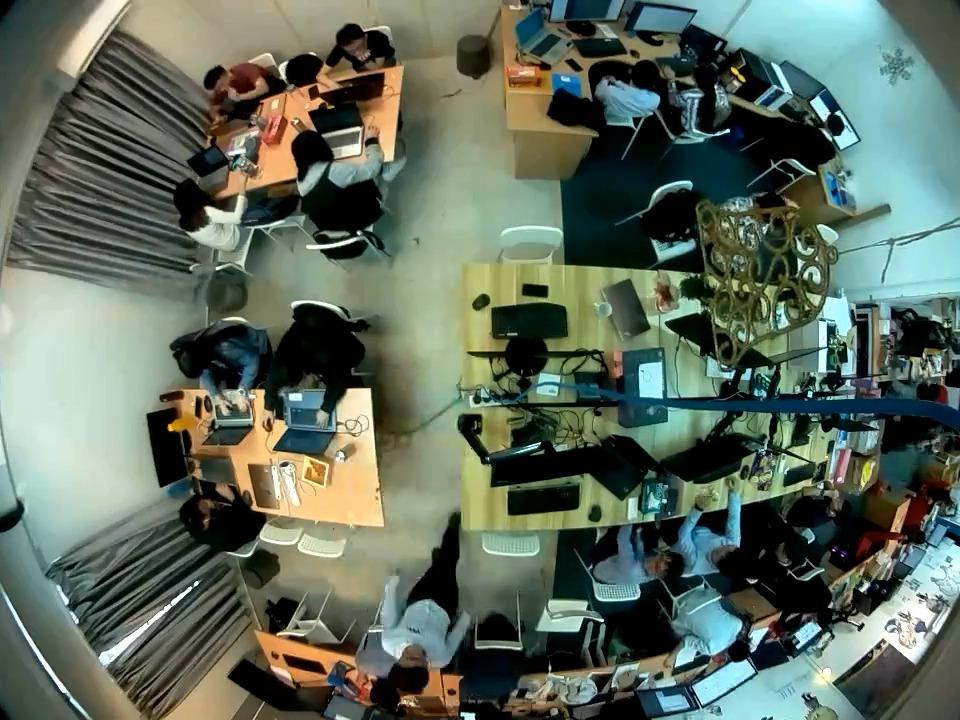name-tag: (404, 625, 422, 636)
